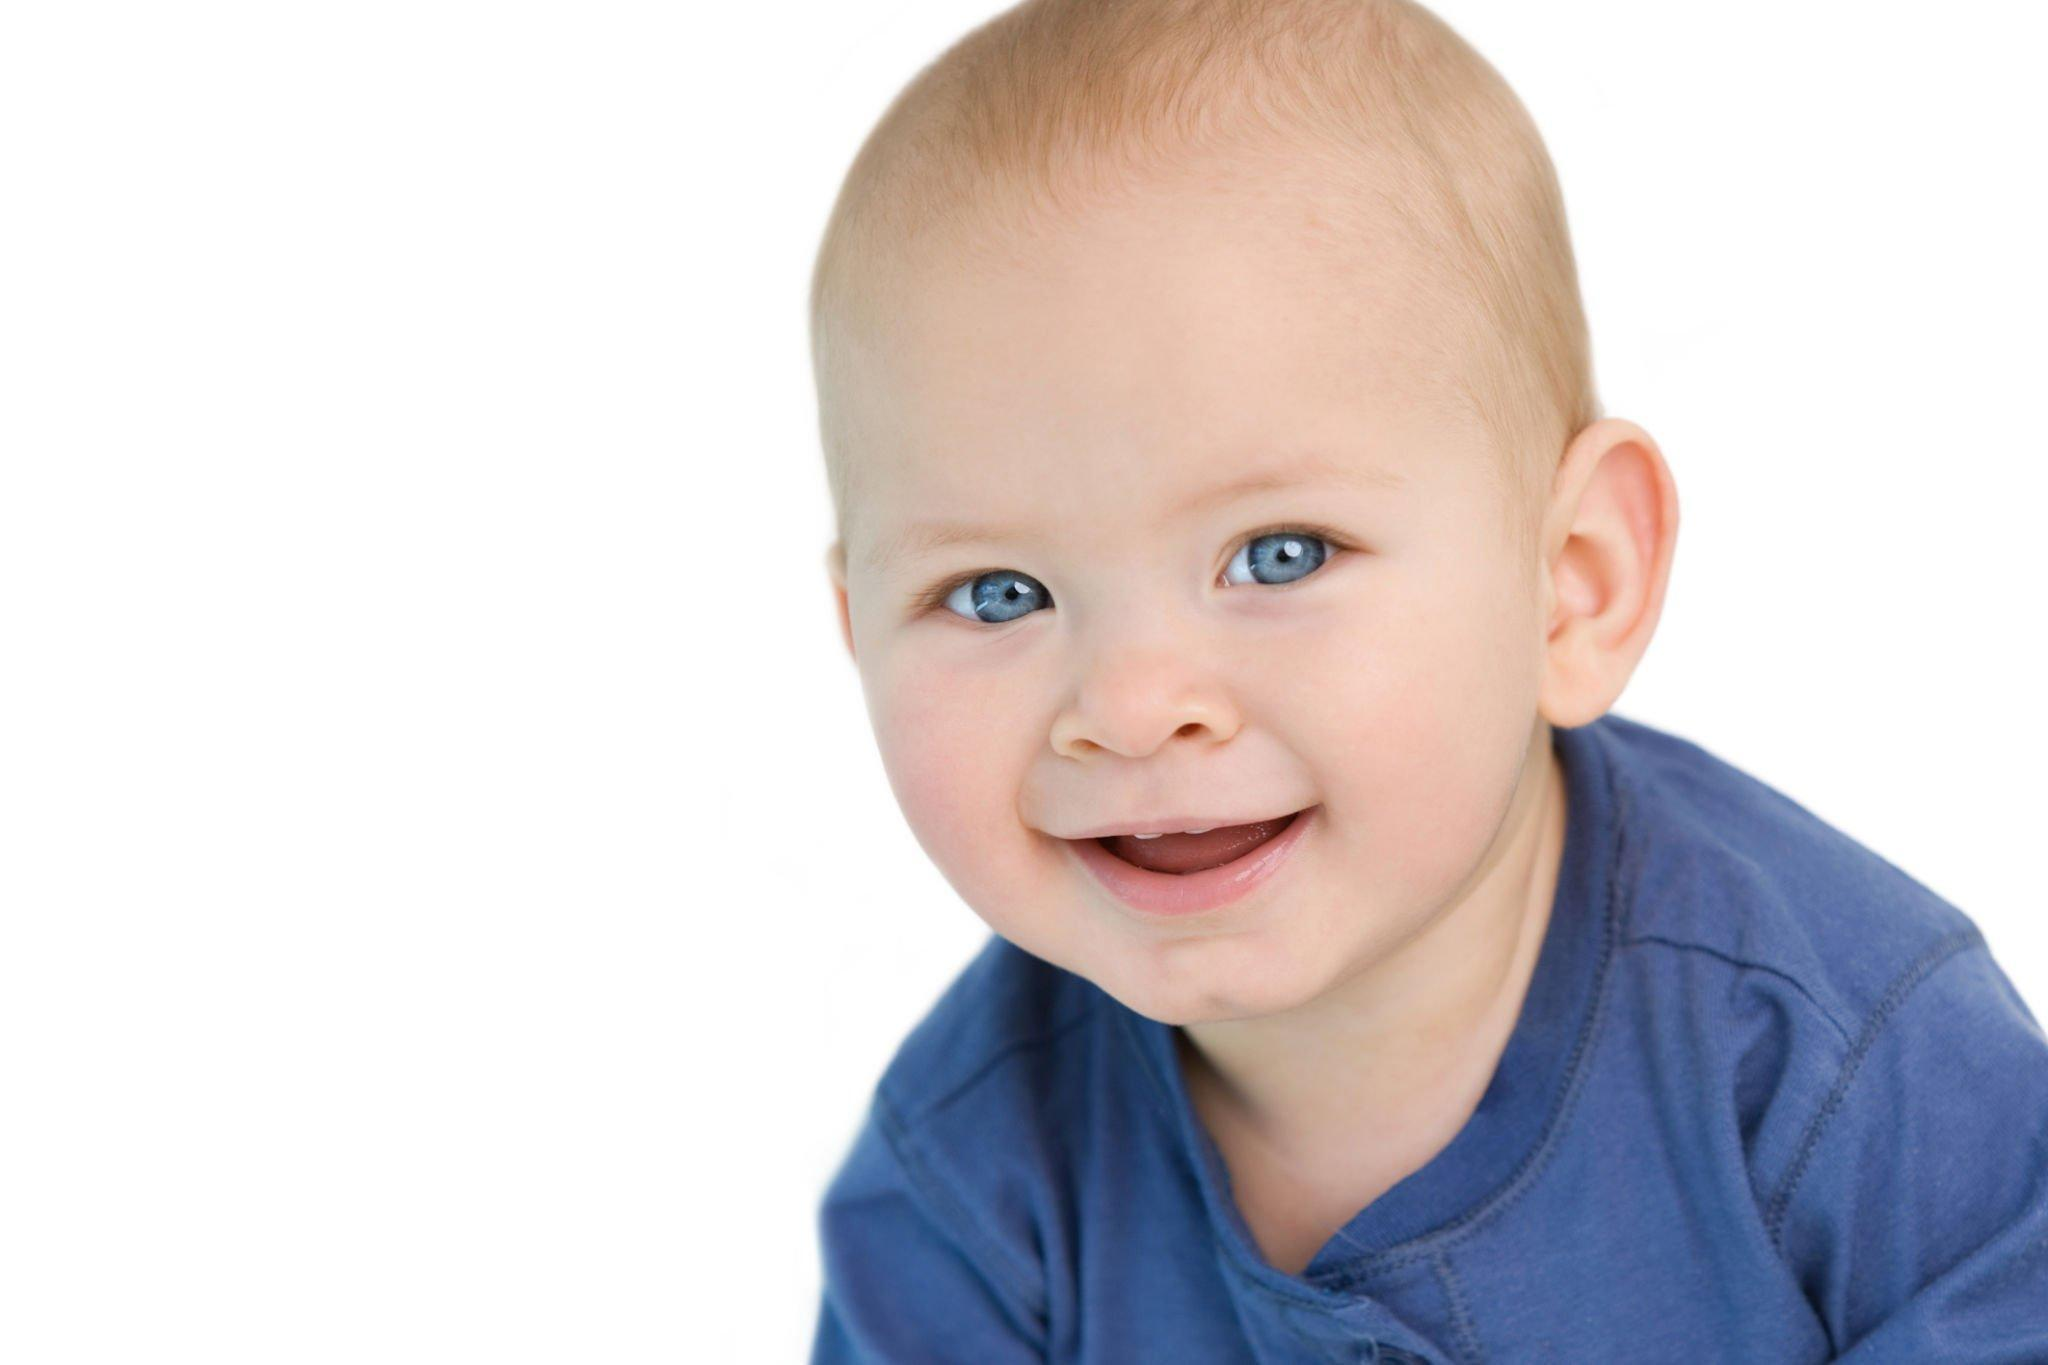Healthy: (854, 0, 1626, 1056)
